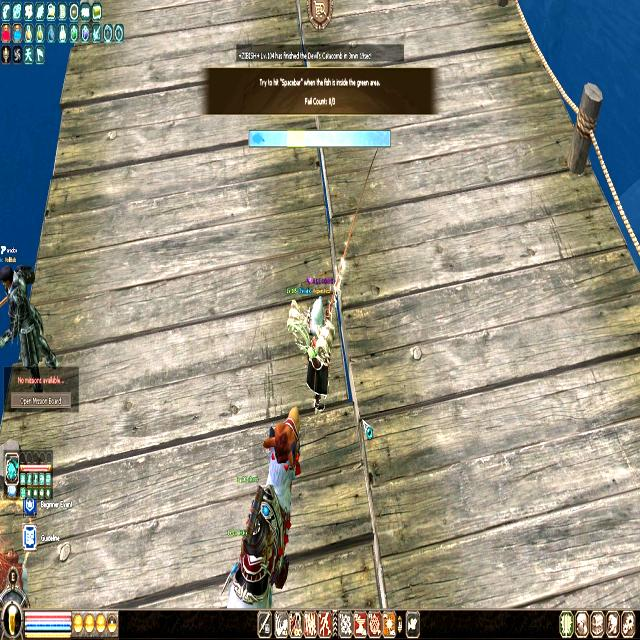fishes: (251, 132, 264, 146)
